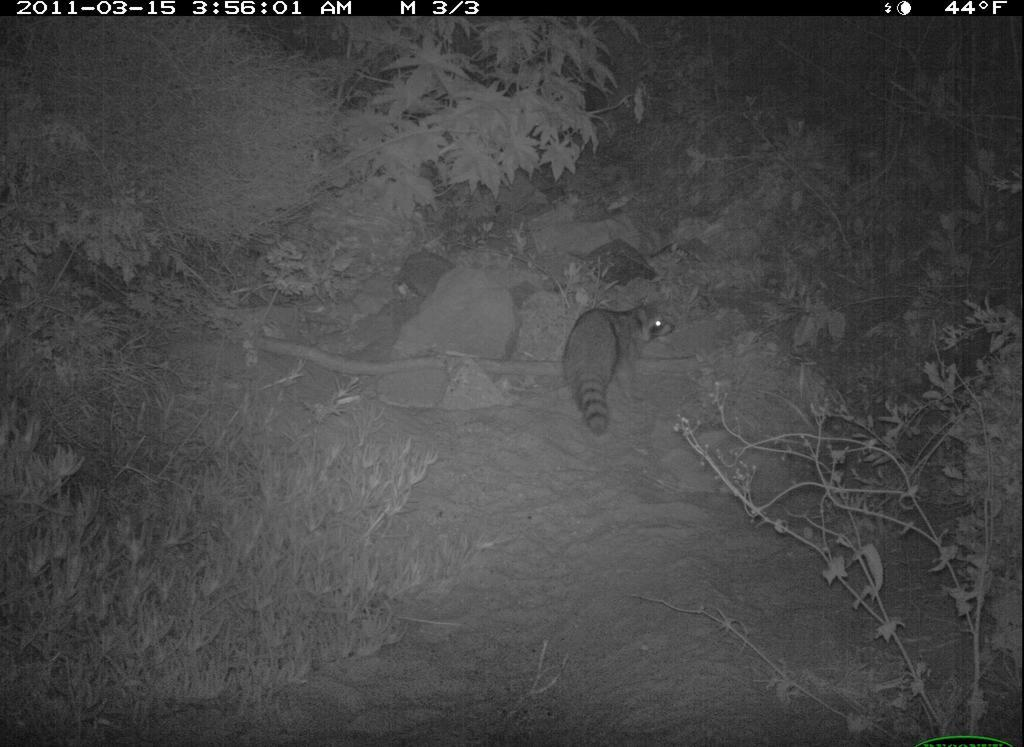raccoon: (548, 296, 681, 447)
